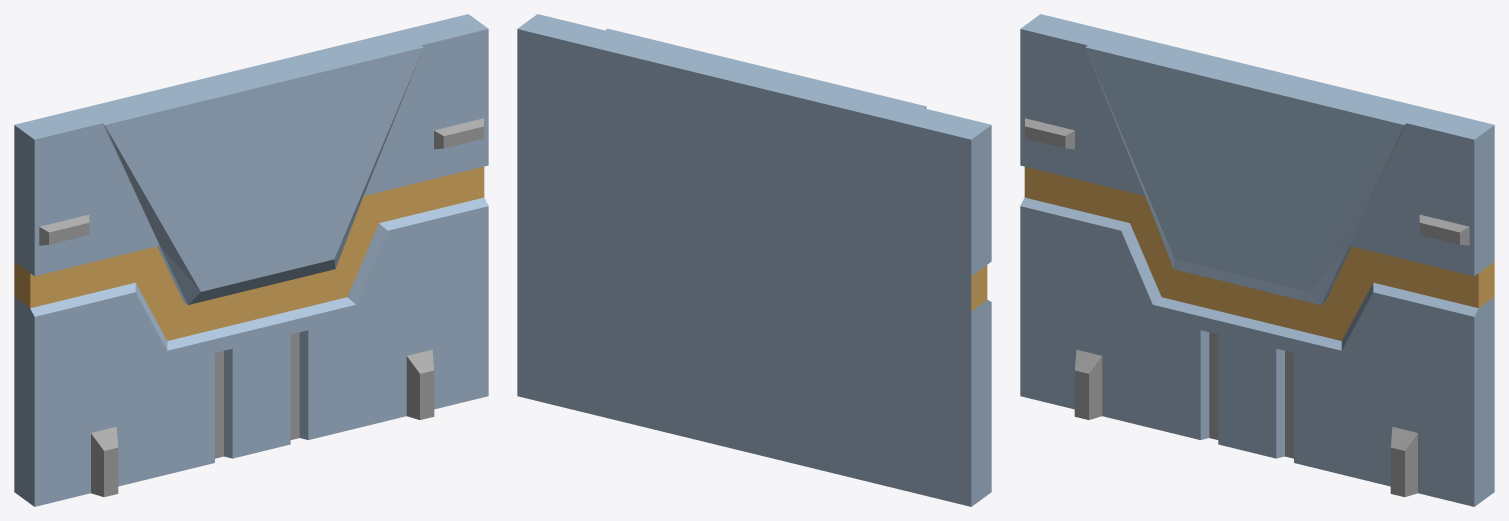
File: SM_Door_A.fbx
3 renders of one model, left to right at view 1: azimuth 30°, elevation 25°; view 2: azimuth 150°, elevation 25°; view 3: azimuth 330°, elevation 25°, orthographic.
Parts seen in each view (by area): view 1: SM_Door_A; view 2: SM_Door_A; view 3: SM_Door_A.
Boxes of the visible parts, x1,y1,x2,y2 form: SM_Door_A: [14, 14, 488, 506]; SM_Door_A: [517, 14, 991, 506]; SM_Door_A: [1020, 14, 1494, 506].
Size of the model in its own units: 4.5 by 3.48 by 0.4777.
